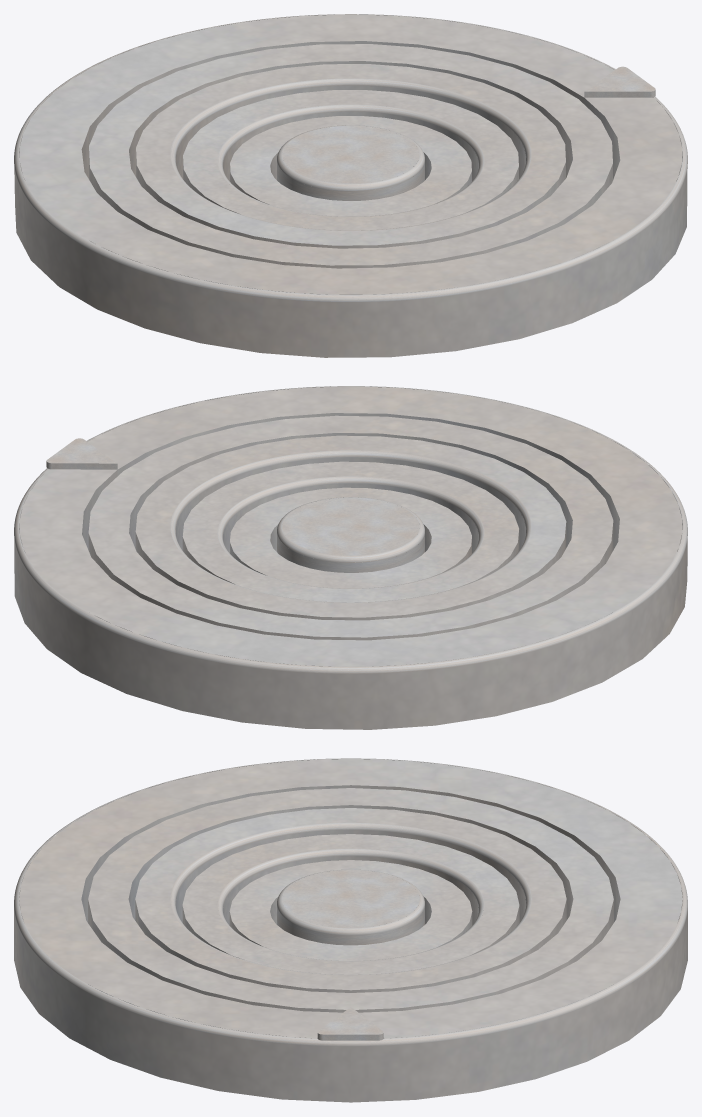
Rendered from maya render.fbx.
3 views of the same model, one above another, from view 1: azimuth 30°, elevation 25°; view 2: azimuth 150°, elevation 25°; view 3: azimuth 270°, elevation 25° (orthographic).
Parts seen in each view (by area): view 1: Layer 01, Layer 02, Layer 03, Layer 04, Layer 05, Object_16, Object_15, Object_10, Object_12, Object_4, Object_14; view 2: Layer 01, Layer 02, Layer 03, Layer 04, Layer 05, Object_16, Object_15, Object_10, Object_12, Object_4, Object_14; view 3: Layer 01, Layer 02, Layer 03, Layer 04, Layer 05, Object_16, Object_15, Object_10, Object_12, Object_4, Object_14.
Boxes of the visible parts, bbox=[...] form: Layer 01: bbox=[14, 14, 687, 357]; Layer 02: bbox=[89, 44, 612, 268]; Layer 03: bbox=[136, 64, 565, 248]; Layer 04: bbox=[183, 90, 518, 230]; Layer 05: bbox=[230, 116, 471, 216]; Object_16: bbox=[14, 14, 687, 301]; Object_15: bbox=[282, 125, 419, 183]; Object_10: bbox=[170, 78, 531, 230]; Object_12: bbox=[217, 104, 484, 217]; Object_4: bbox=[277, 160, 424, 200]; Object_14: bbox=[277, 125, 424, 190]; Layer 01: bbox=[14, 386, 687, 729]; Layer 02: bbox=[88, 415, 613, 640]; Layer 03: bbox=[135, 435, 566, 620]; Layer 04: bbox=[182, 461, 519, 602]; Layer 05: bbox=[230, 487, 471, 588]; Object_16: bbox=[14, 386, 687, 673]; Object_15: bbox=[282, 497, 419, 555]; Object_10: bbox=[170, 450, 531, 602]; Object_12: bbox=[217, 476, 484, 588]; Object_4: bbox=[277, 534, 424, 572]; Object_14: bbox=[277, 497, 424, 562]; Layer 01: bbox=[14, 759, 687, 1102]; Layer 02: bbox=[88, 788, 613, 1012]; Layer 03: bbox=[135, 808, 566, 992]; Layer 04: bbox=[182, 834, 519, 974]; Layer 05: bbox=[229, 860, 472, 960]; Object_16: bbox=[14, 758, 687, 1046]; Object_15: bbox=[282, 870, 419, 927]; Object_10: bbox=[170, 822, 531, 975]; Object_12: bbox=[217, 848, 484, 961]; Object_4: bbox=[277, 906, 424, 945]; Object_14: bbox=[277, 869, 424, 935].
Bounding box in the file's own units: 184 × 20.22 × 184.
1 material, 1 textured.
